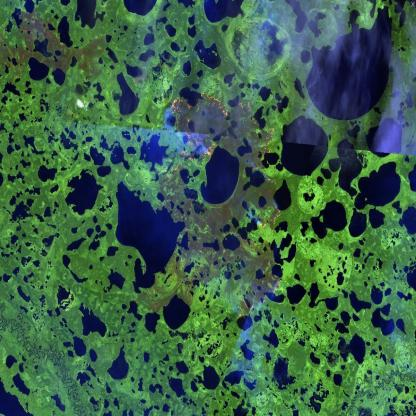fire: (163, 81, 287, 328)
